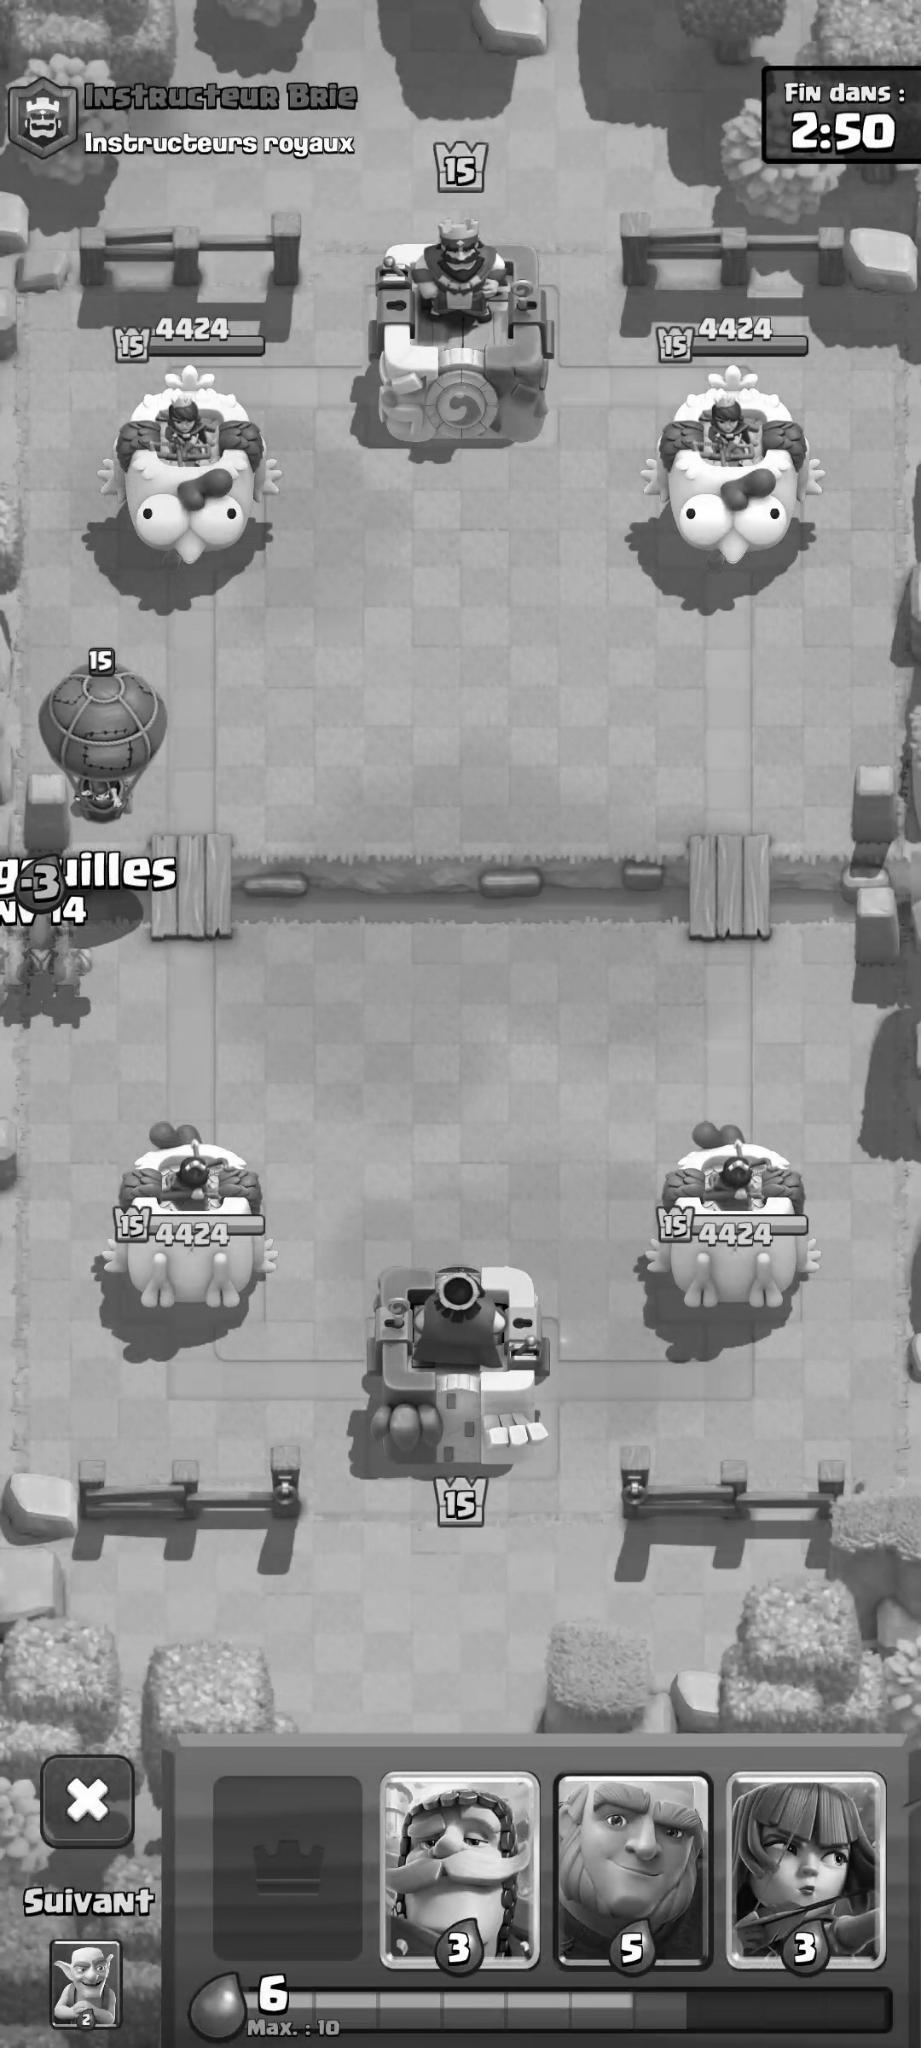gargouille: (44, 936, 90, 995), (0, 925, 38, 995), (20, 889, 71, 942)
